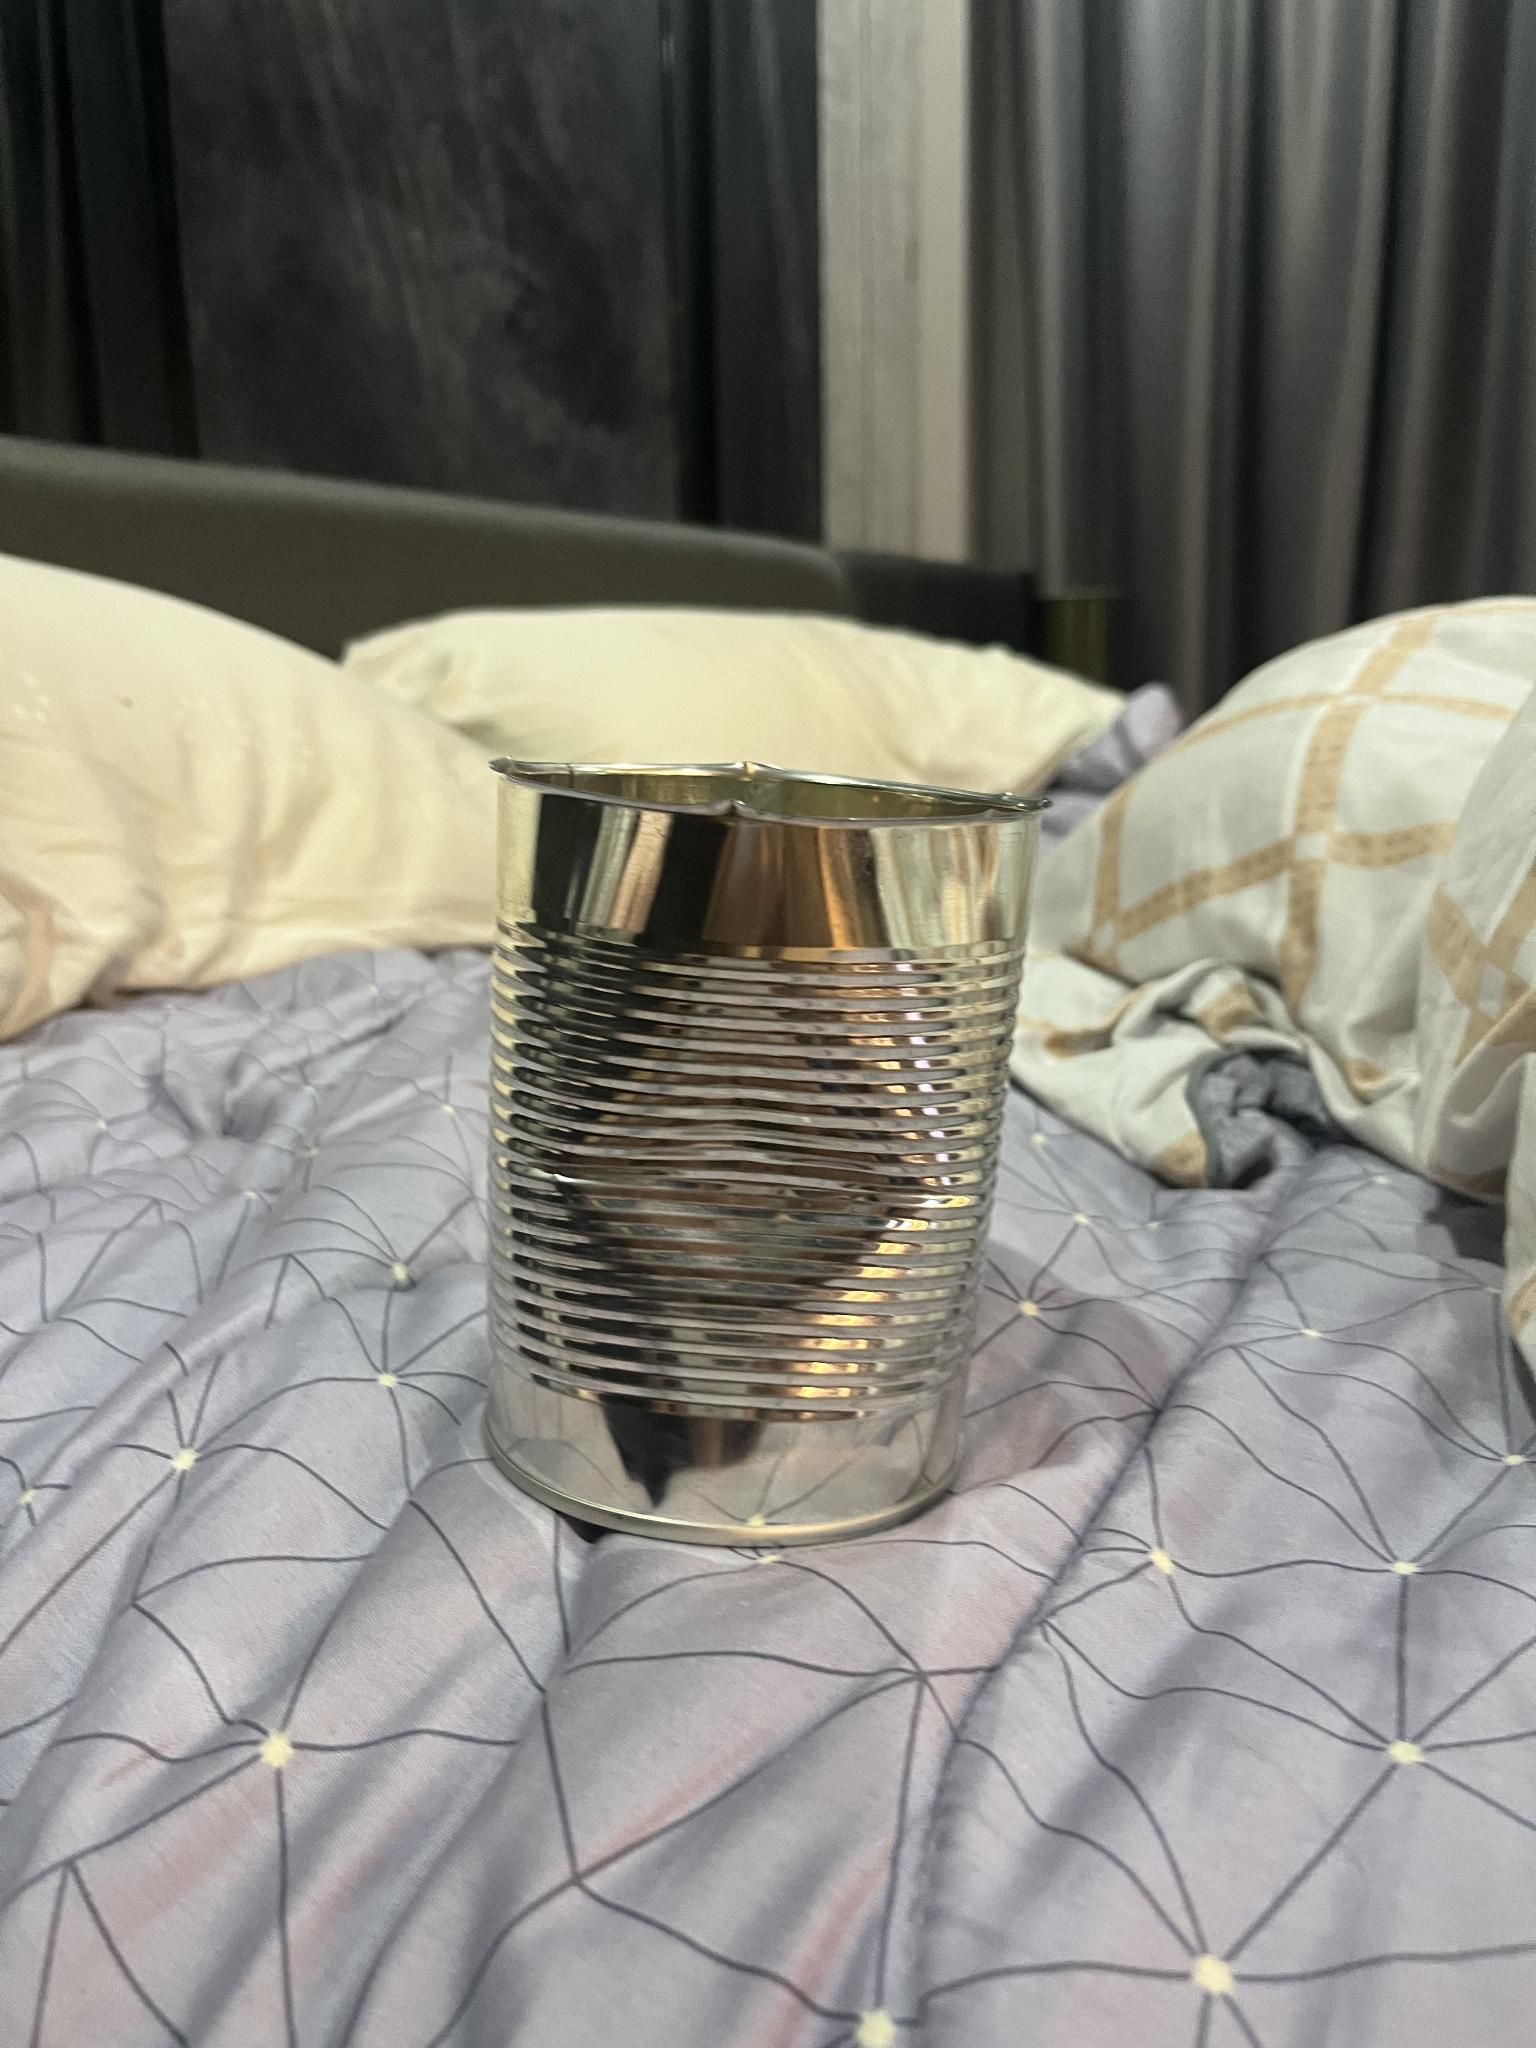metal: (487, 760, 1041, 1543)
